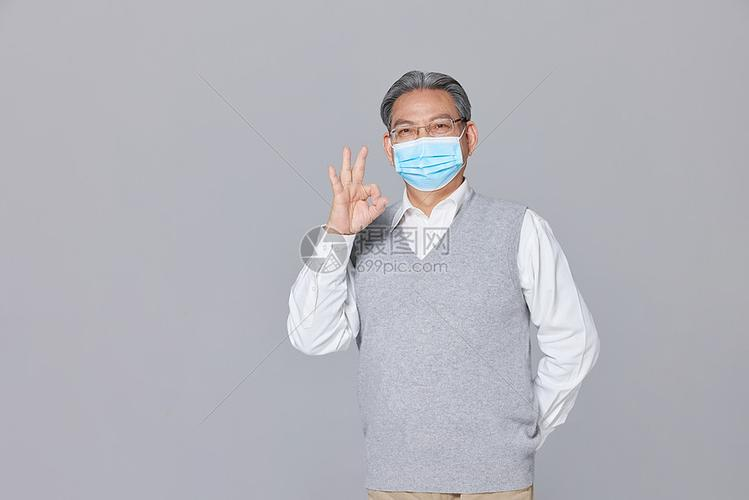mask: (387, 82, 471, 190)
